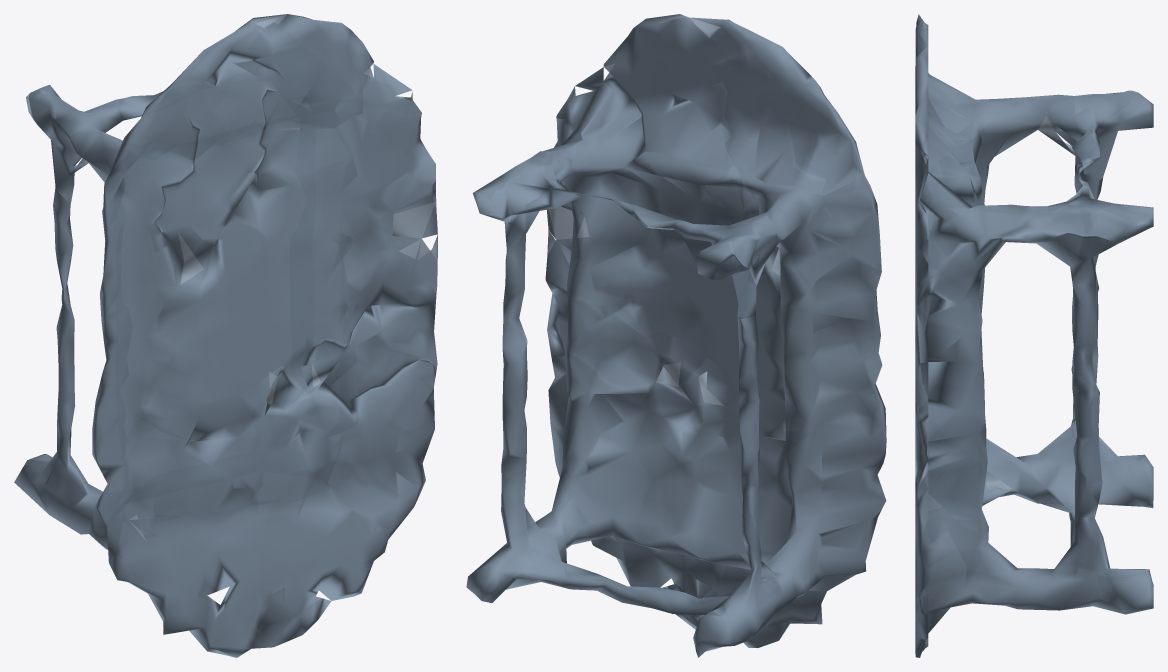
File: table_0044_original.obj
3 views of the same model, side by side, from view 1: azimuth 30°, elevation 25°; view 2: azimuth 150°, elevation 25°; view 3: azimuth 270°, elevation 25° (orthographic). The views are drawn at different scales.
Size of the model in its own units: 1.12 by 1.98 by 0.6906.
